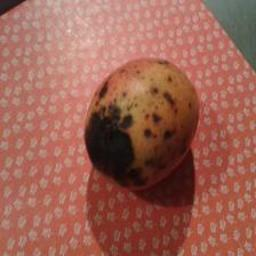Mango Rotten: (78, 58, 214, 197)
